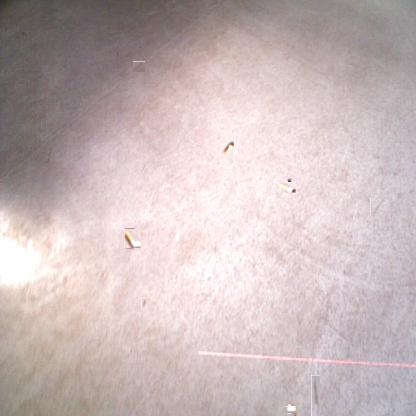dirty: (124, 228, 141, 248), (279, 180, 294, 196), (222, 140, 234, 154), (286, 405, 295, 415)
mark: (311, 375, 320, 416), (369, 198, 386, 215), (133, 61, 145, 72), (141, 297, 146, 308), (20, 31, 26, 39)
